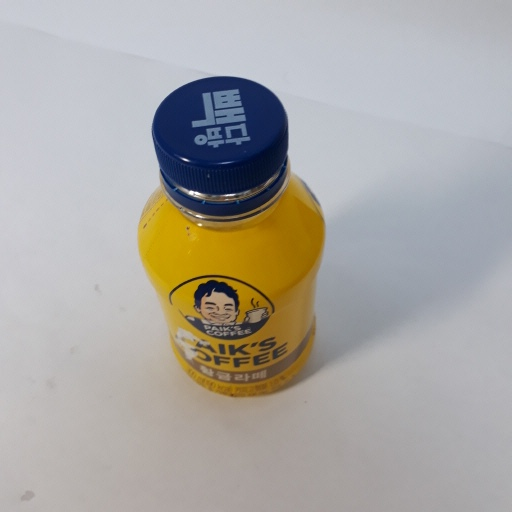Plastic_0: (131, 75, 334, 402)
